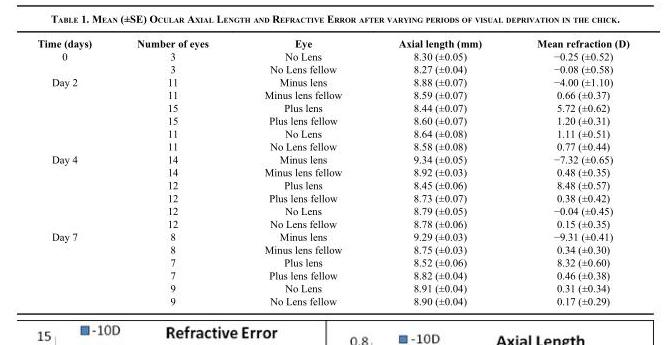table: (36, 37, 628, 306)
table column: (369, 37, 508, 306), (235, 37, 369, 306), (113, 37, 235, 306), (508, 37, 628, 306), (36, 37, 113, 306)
table column header: (36, 37, 628, 49)
table row: (36, 49, 628, 62), (36, 62, 628, 75), (36, 75, 628, 88), (36, 100, 628, 113), (36, 113, 628, 126), (36, 126, 628, 139), (36, 139, 628, 152), (36, 152, 628, 165), (36, 165, 628, 178), (36, 178, 628, 191), (36, 203, 628, 216), (36, 216, 628, 229), (36, 229, 628, 242), (36, 242, 628, 255), (36, 255, 628, 268), (36, 268, 628, 281), (36, 281, 628, 294), (36, 37, 628, 49), (36, 88, 628, 100), (36, 191, 628, 203), (36, 294, 628, 306)
table spanning cell: (36, 75, 113, 152), (36, 152, 113, 229), (36, 229, 113, 306), (36, 49, 113, 75)
